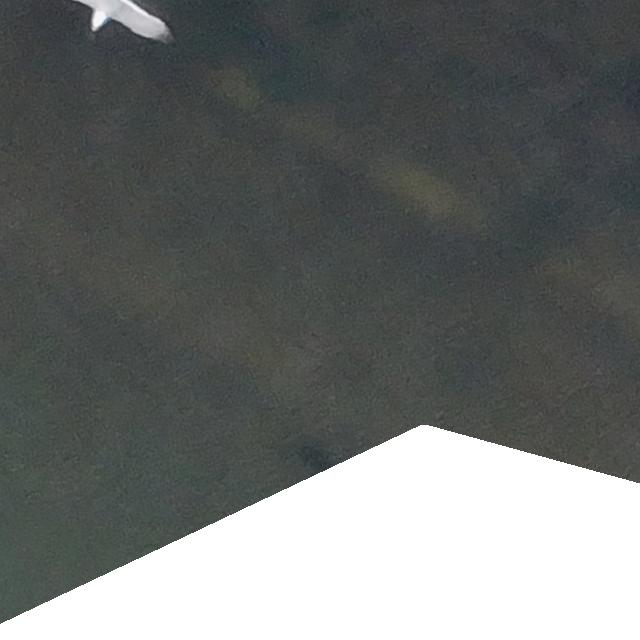F: (78, 0, 165, 39)
